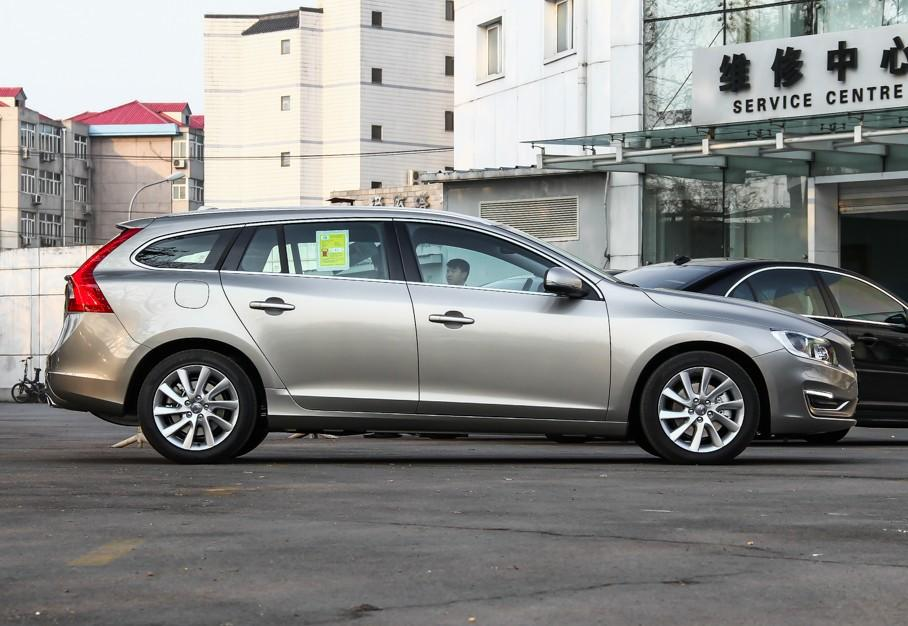Wagon: (46, 206, 857, 467)
